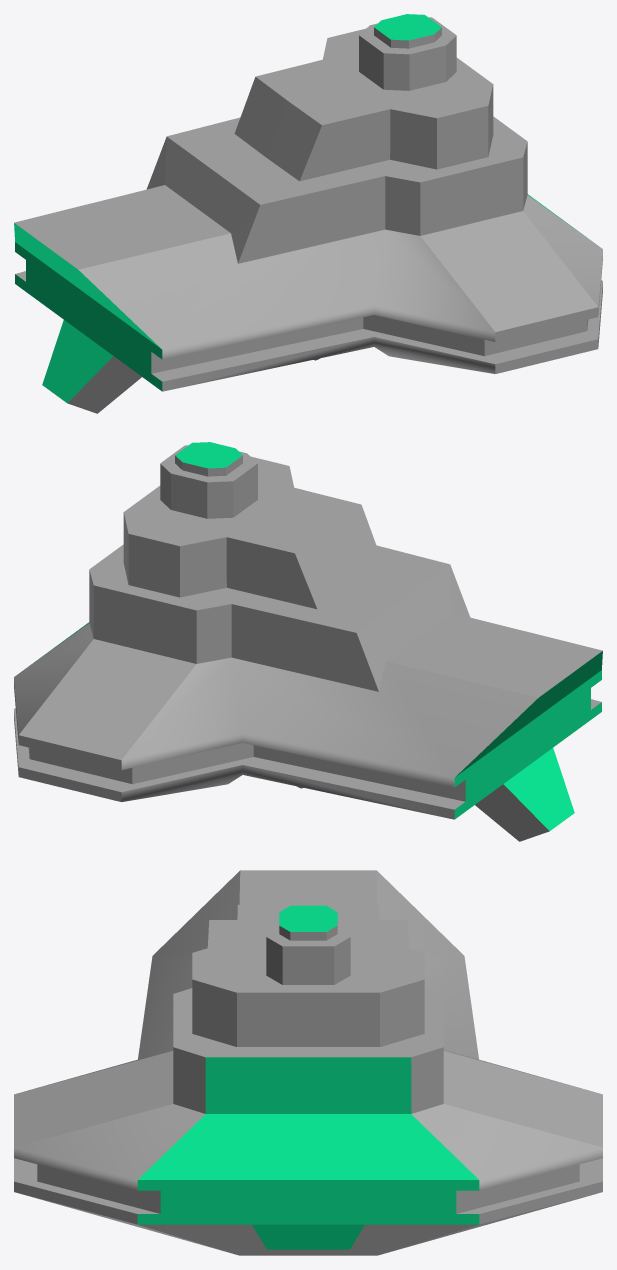
Rendered from SM_FrigateHullMiddle.fbx.
The picture shows the model from 3 angles, top to bottom: view 1: azimuth 30°, elevation 25°; view 2: azimuth 150°, elevation 25°; view 3: azimuth 270°, elevation 25°; orthographic projection. The views are drawn at different scales.
Visible parts, largest first — view 1: polySurface49; view 2: polySurface49; view 3: polySurface49.
Part boxes in pixels (box(x1,y1,x2,y2)): polySurface49: box(14, 14, 602, 413); polySurface49: box(14, 442, 602, 841); polySurface49: box(14, 870, 602, 1255).
Bounding box in the file's own units: 3320 × 2002 × 3356.
